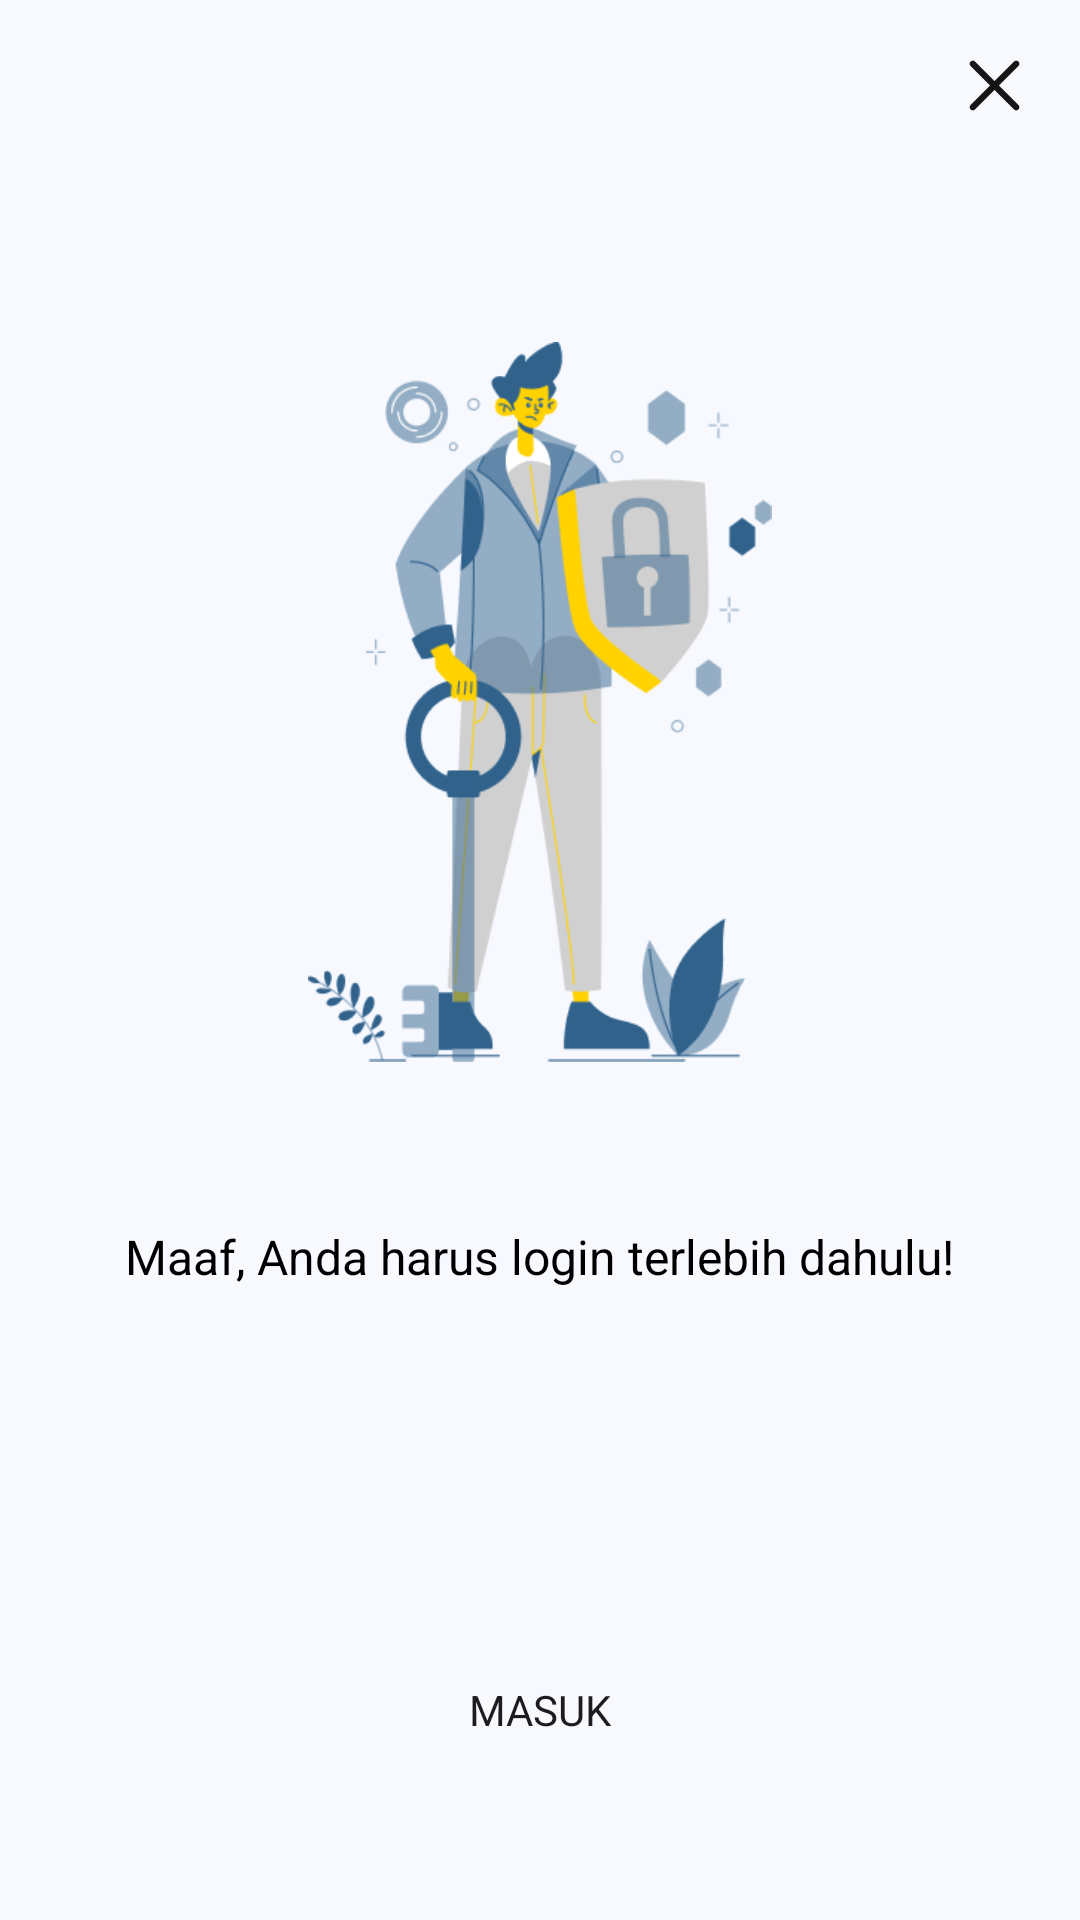

Icon click points for this 1080px×1920px phone screenshot, format [x,y]:
close: [994,85]
